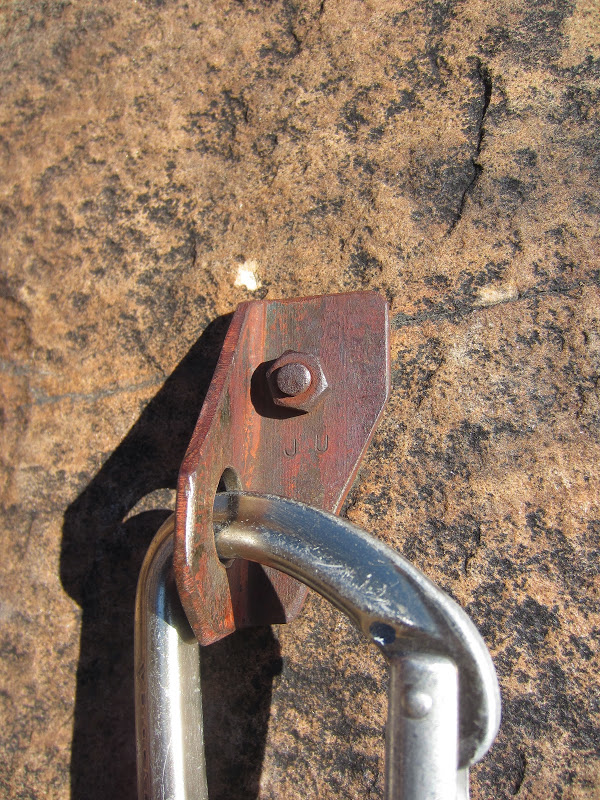bolt: (256, 348, 332, 421)
